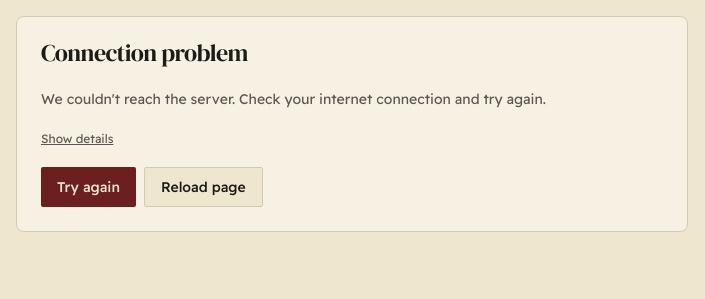
Test case: ErrorBoundary — the details disclosure › offers the details on a connection panel too
Step 1. Click the button "Show details" → (77, 139), box [41,131,113,147]
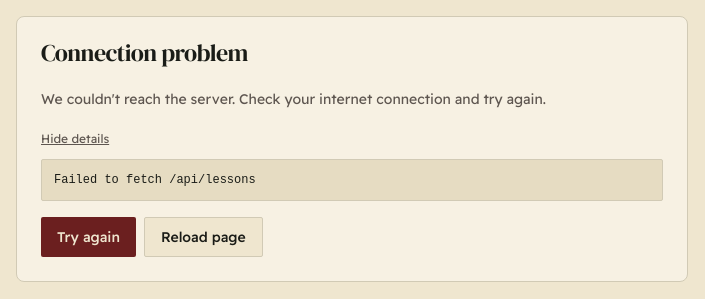
Check: the text "Failed to fetch /api/lessons" is shown, box [41,159,663,201]
